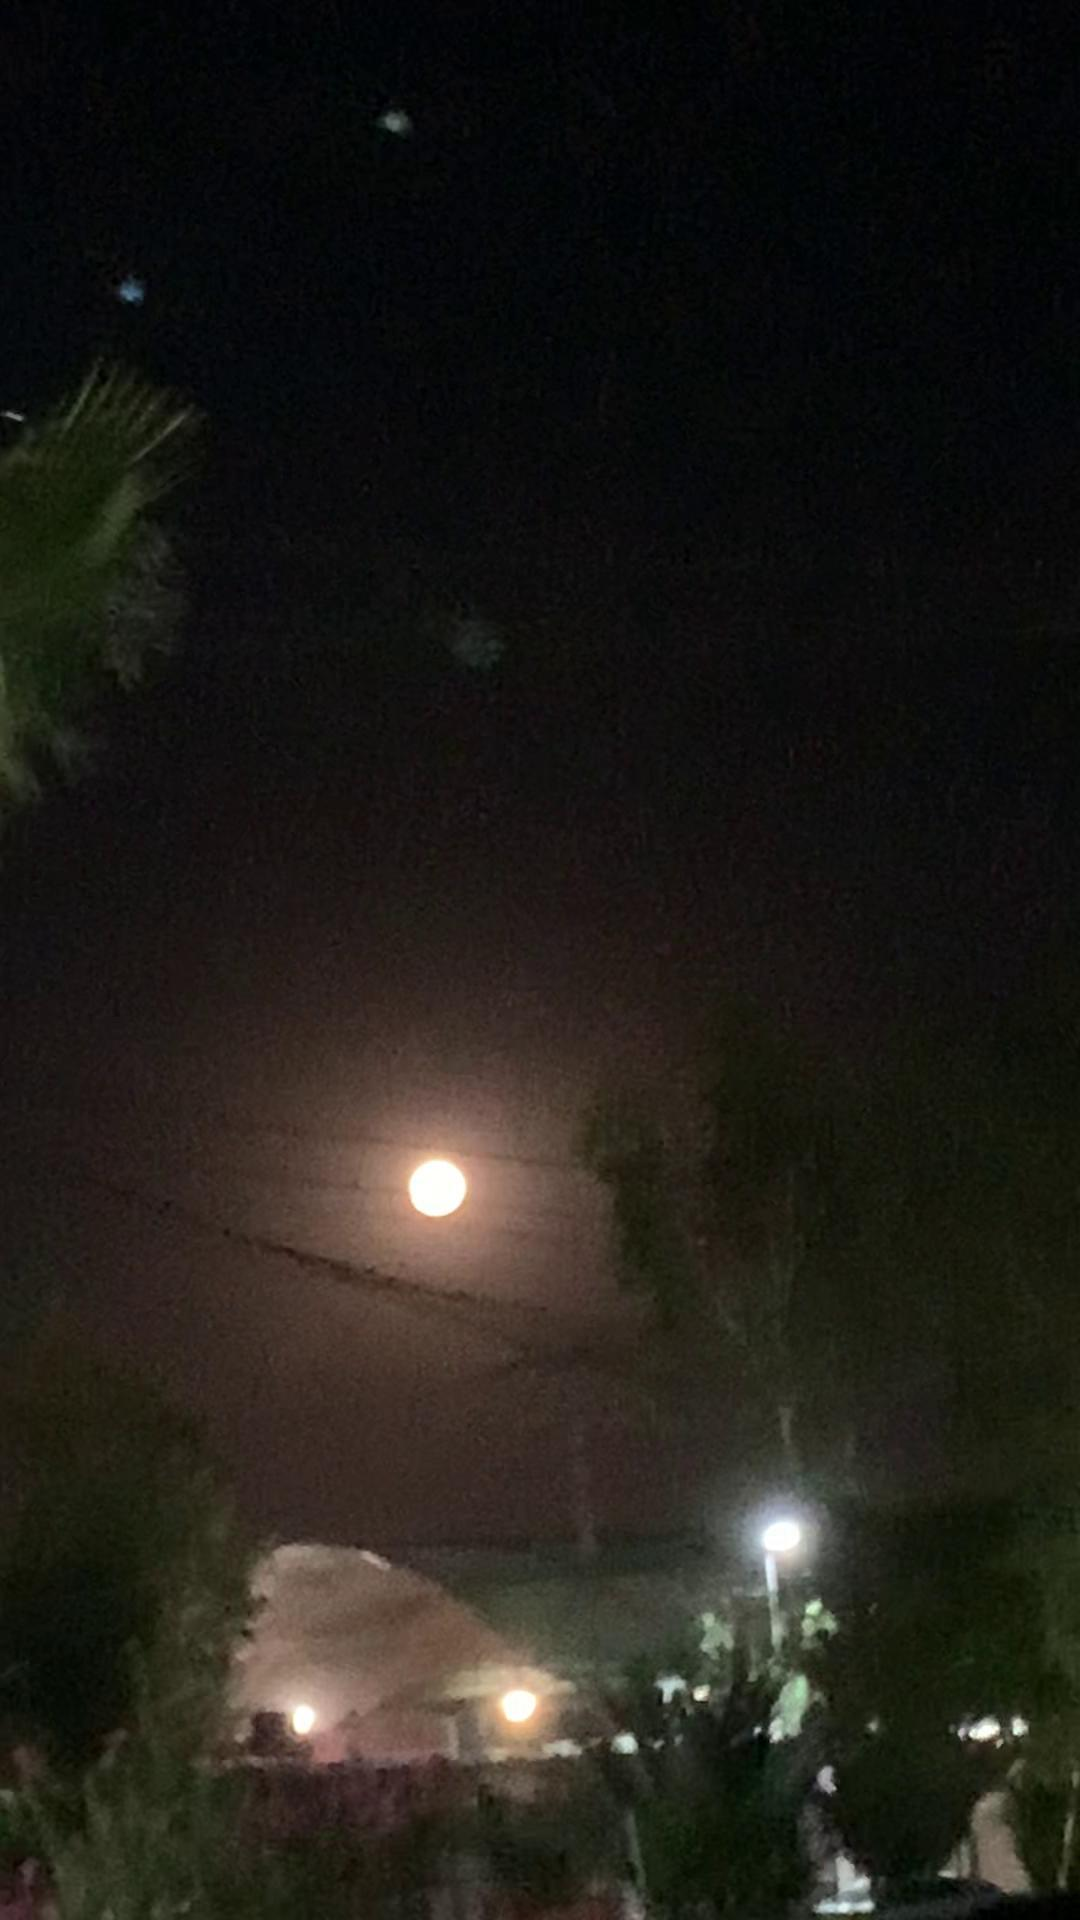moon: (368, 1129, 476, 1224)
